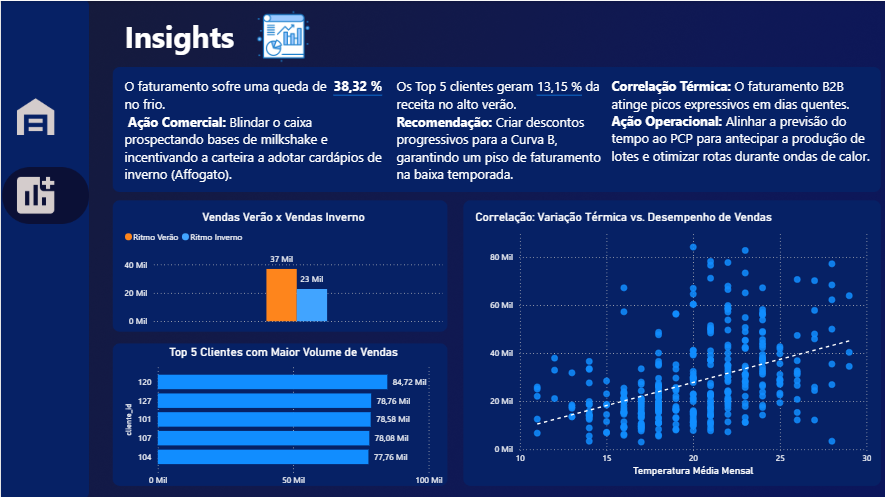

What the dashboard file says about the page in this screenshot:
{"tool":"powerbi","page":{"name":"Página 2","canvas":[1280,720],"ordinal":1},"visuals":[{"type":"textbox","box":[172.8,105.1,391.7,182.9],"z":0},{"type":"textbox","box":[564.5,105.1,309.6,161.3],"z":1000},{"type":"scatterChart","title":"Correlação: Variação Térmica vs. Desempenho de Vendas","fields":{"X":["Avg(public fato_vendas_clima.temperatura_media)"],"Category":["public fato_vendas_clima.data_pedido"],"Y":["Sum(public fato_vendas_clima.valor_total)"]},"box":[678.6,301.4,580.2,387.8],"z":2000},{"type":"barChart","title":"Top 5 Clientes com Maior Volume de Vendas","fields":{"Category":["public fato_vendas_clima.cliente_id"],"Y":["Sum(public fato_vendas_clima.valor_total)"]},"box":[172.7,495.3,468.1,212.1],"z":3000},{"type":"clusteredColumnChart","title":"Vendas Verão x Vendas Inverno","fields":{"Y":["public fato_vendas_clima.Ritmo Verão","public fato_vendas_clima.Ritmo Inverno"]},"box":[172.7,301.4,468.1,174.2],"z":4000},{"type":"textbox","box":[874.1,105.1,394.6,172.8],"z":5000},{"type":"textbox","box":[172.7,16.7,183.3,68.2],"z":5001},{"type":"actionButton","box":[18.2,137.8,72.7,63.6],"z":5002},{"type":"image","box":[331.7,9.1,151.5,84.8],"z":5003}]}

Visuals, with their boxes on the page's 1280x720 design canvas (x1, y1, x2, y2). These are canvas units, not pixel positions in the 885x497 screenshot, which may show the page scaled, cropped or inside an application window:
textbox: locate(173, 105, 564, 288)
textbox: locate(564, 105, 874, 266)
"Correlação: Variação Térmica vs. Desempenho de Vendas" scatterChart: locate(679, 301, 1259, 689)
"Top 5 Clientes com Maior Volume de Vendas" barChart: locate(173, 495, 641, 707)
"Vendas Verão x Vendas Inverno" clusteredColumnChart: locate(173, 301, 641, 476)
textbox: locate(874, 105, 1269, 278)
textbox: locate(173, 17, 356, 85)
actionButton: locate(18, 138, 91, 201)
image: locate(332, 9, 483, 94)
